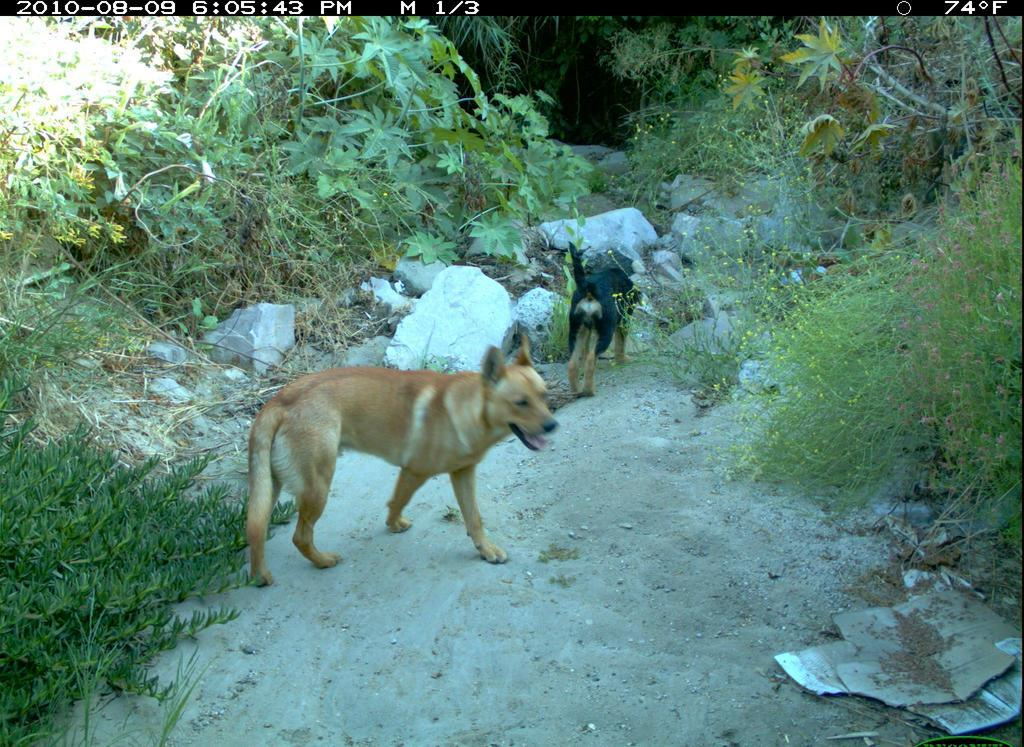dog: (237, 322, 566, 592), (565, 236, 642, 400)
